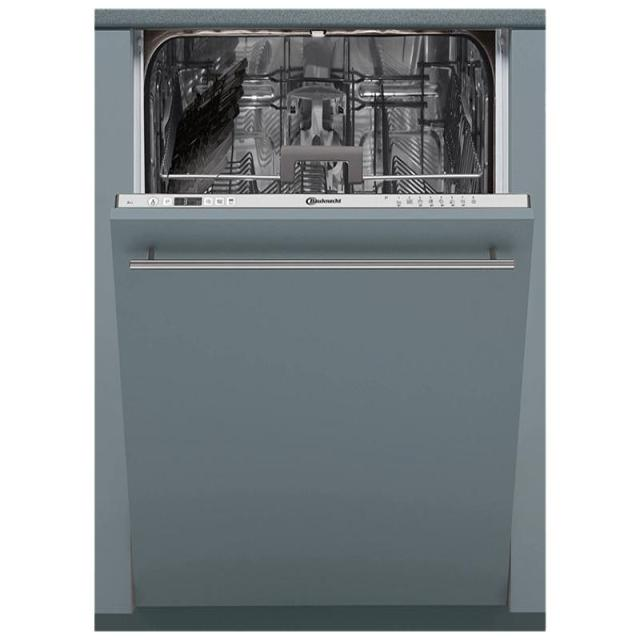dishwasher: (106, 21, 536, 619)
